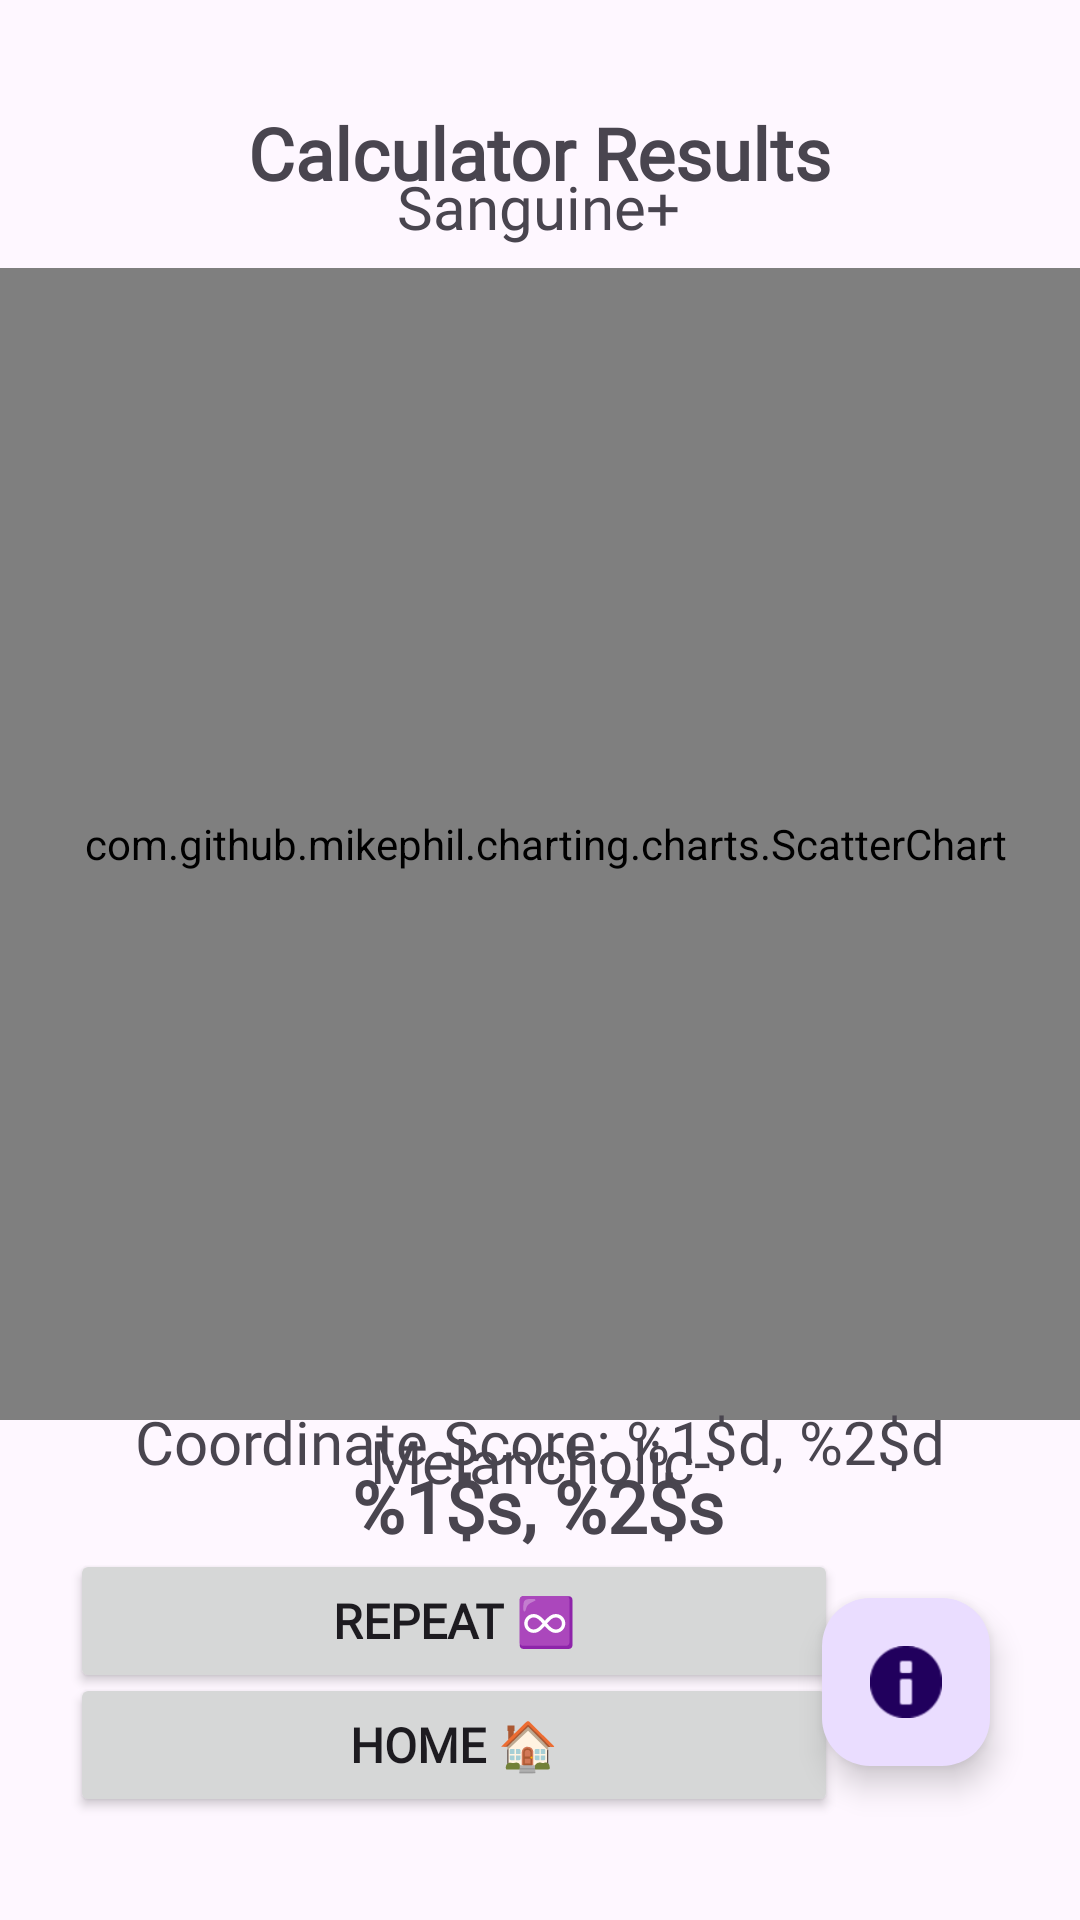

Screen size 1080x1920. Icon name, then its center in pixels as [x,y]:
info: [906,1682]
